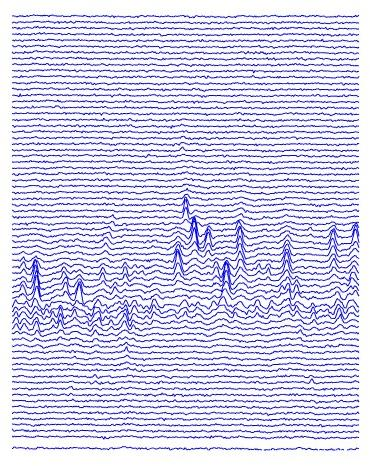defect: (90, 300, 158, 338), (13, 300, 66, 335), (277, 228, 303, 299), (59, 261, 89, 306), (315, 291, 345, 325), (232, 218, 249, 265), (28, 252, 45, 298), (185, 221, 215, 247), (344, 264, 362, 301), (169, 243, 186, 280), (115, 258, 135, 286), (219, 257, 232, 296), (329, 222, 338, 272), (347, 222, 362, 248), (179, 193, 189, 220)
